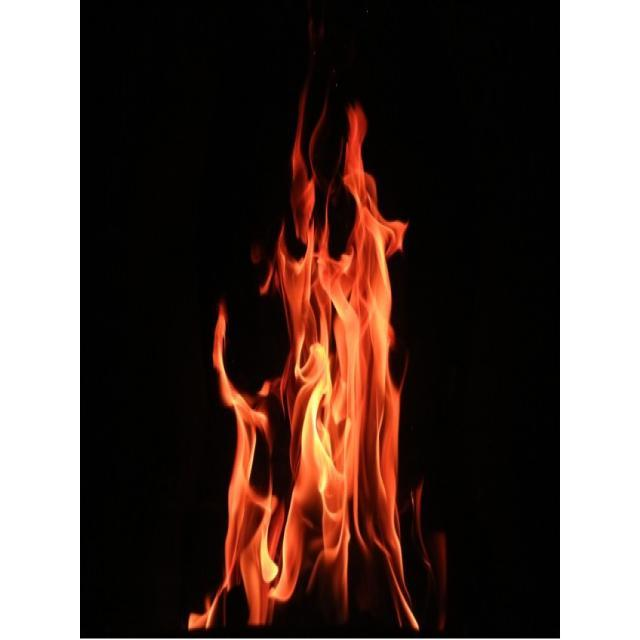Fire: (186, 83, 450, 640)
